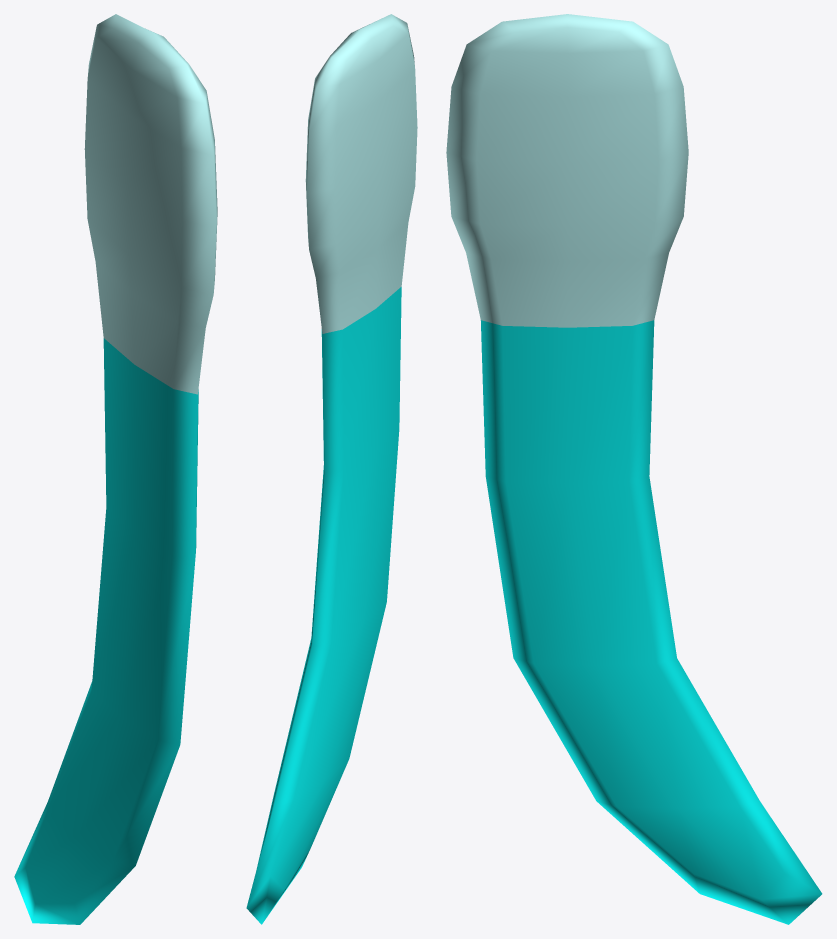
The model's file is Upper cut.fbx.
The picture shows the model from 3 angles, left to right: view 1: azimuth 30°, elevation 25°; view 2: azimuth 150°, elevation 25°; view 3: azimuth 270°, elevation 25°; orthographic projection. The views are drawn at different scales.
Visible parts, largest first — view 1: upper_cut; view 2: upper_cut; view 3: upper_cut.
Part boxes in pixels (x1=…): upper_cut: x1=14, y1=14, x2=217, y2=924; upper_cut: x1=246, y1=14, x2=417, y2=924; upper_cut: x1=446, y1=14, x2=822, y2=924.
Size of the model in its own units: 0.1235 by 2.46 by 0.919.
